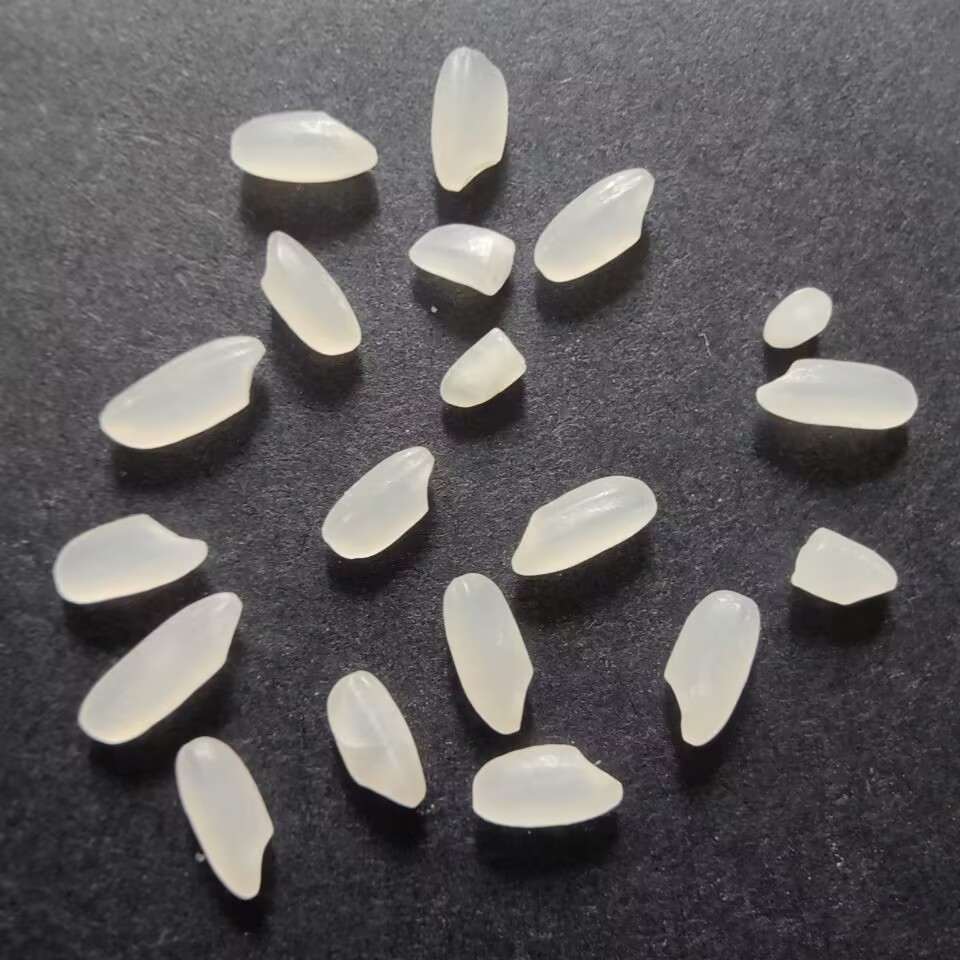broken: (785, 522, 902, 610), (400, 220, 520, 300), (433, 324, 530, 412), (751, 280, 839, 353)
rice: (73, 588, 252, 747), (89, 329, 266, 458), (172, 731, 281, 904), (656, 585, 765, 753), (437, 569, 540, 742), (506, 470, 666, 580), (319, 662, 431, 815), (47, 508, 215, 609), (316, 438, 439, 565), (463, 739, 627, 834), (532, 162, 655, 287), (257, 223, 367, 361), (752, 354, 926, 438), (221, 106, 386, 189), (426, 43, 513, 196)
